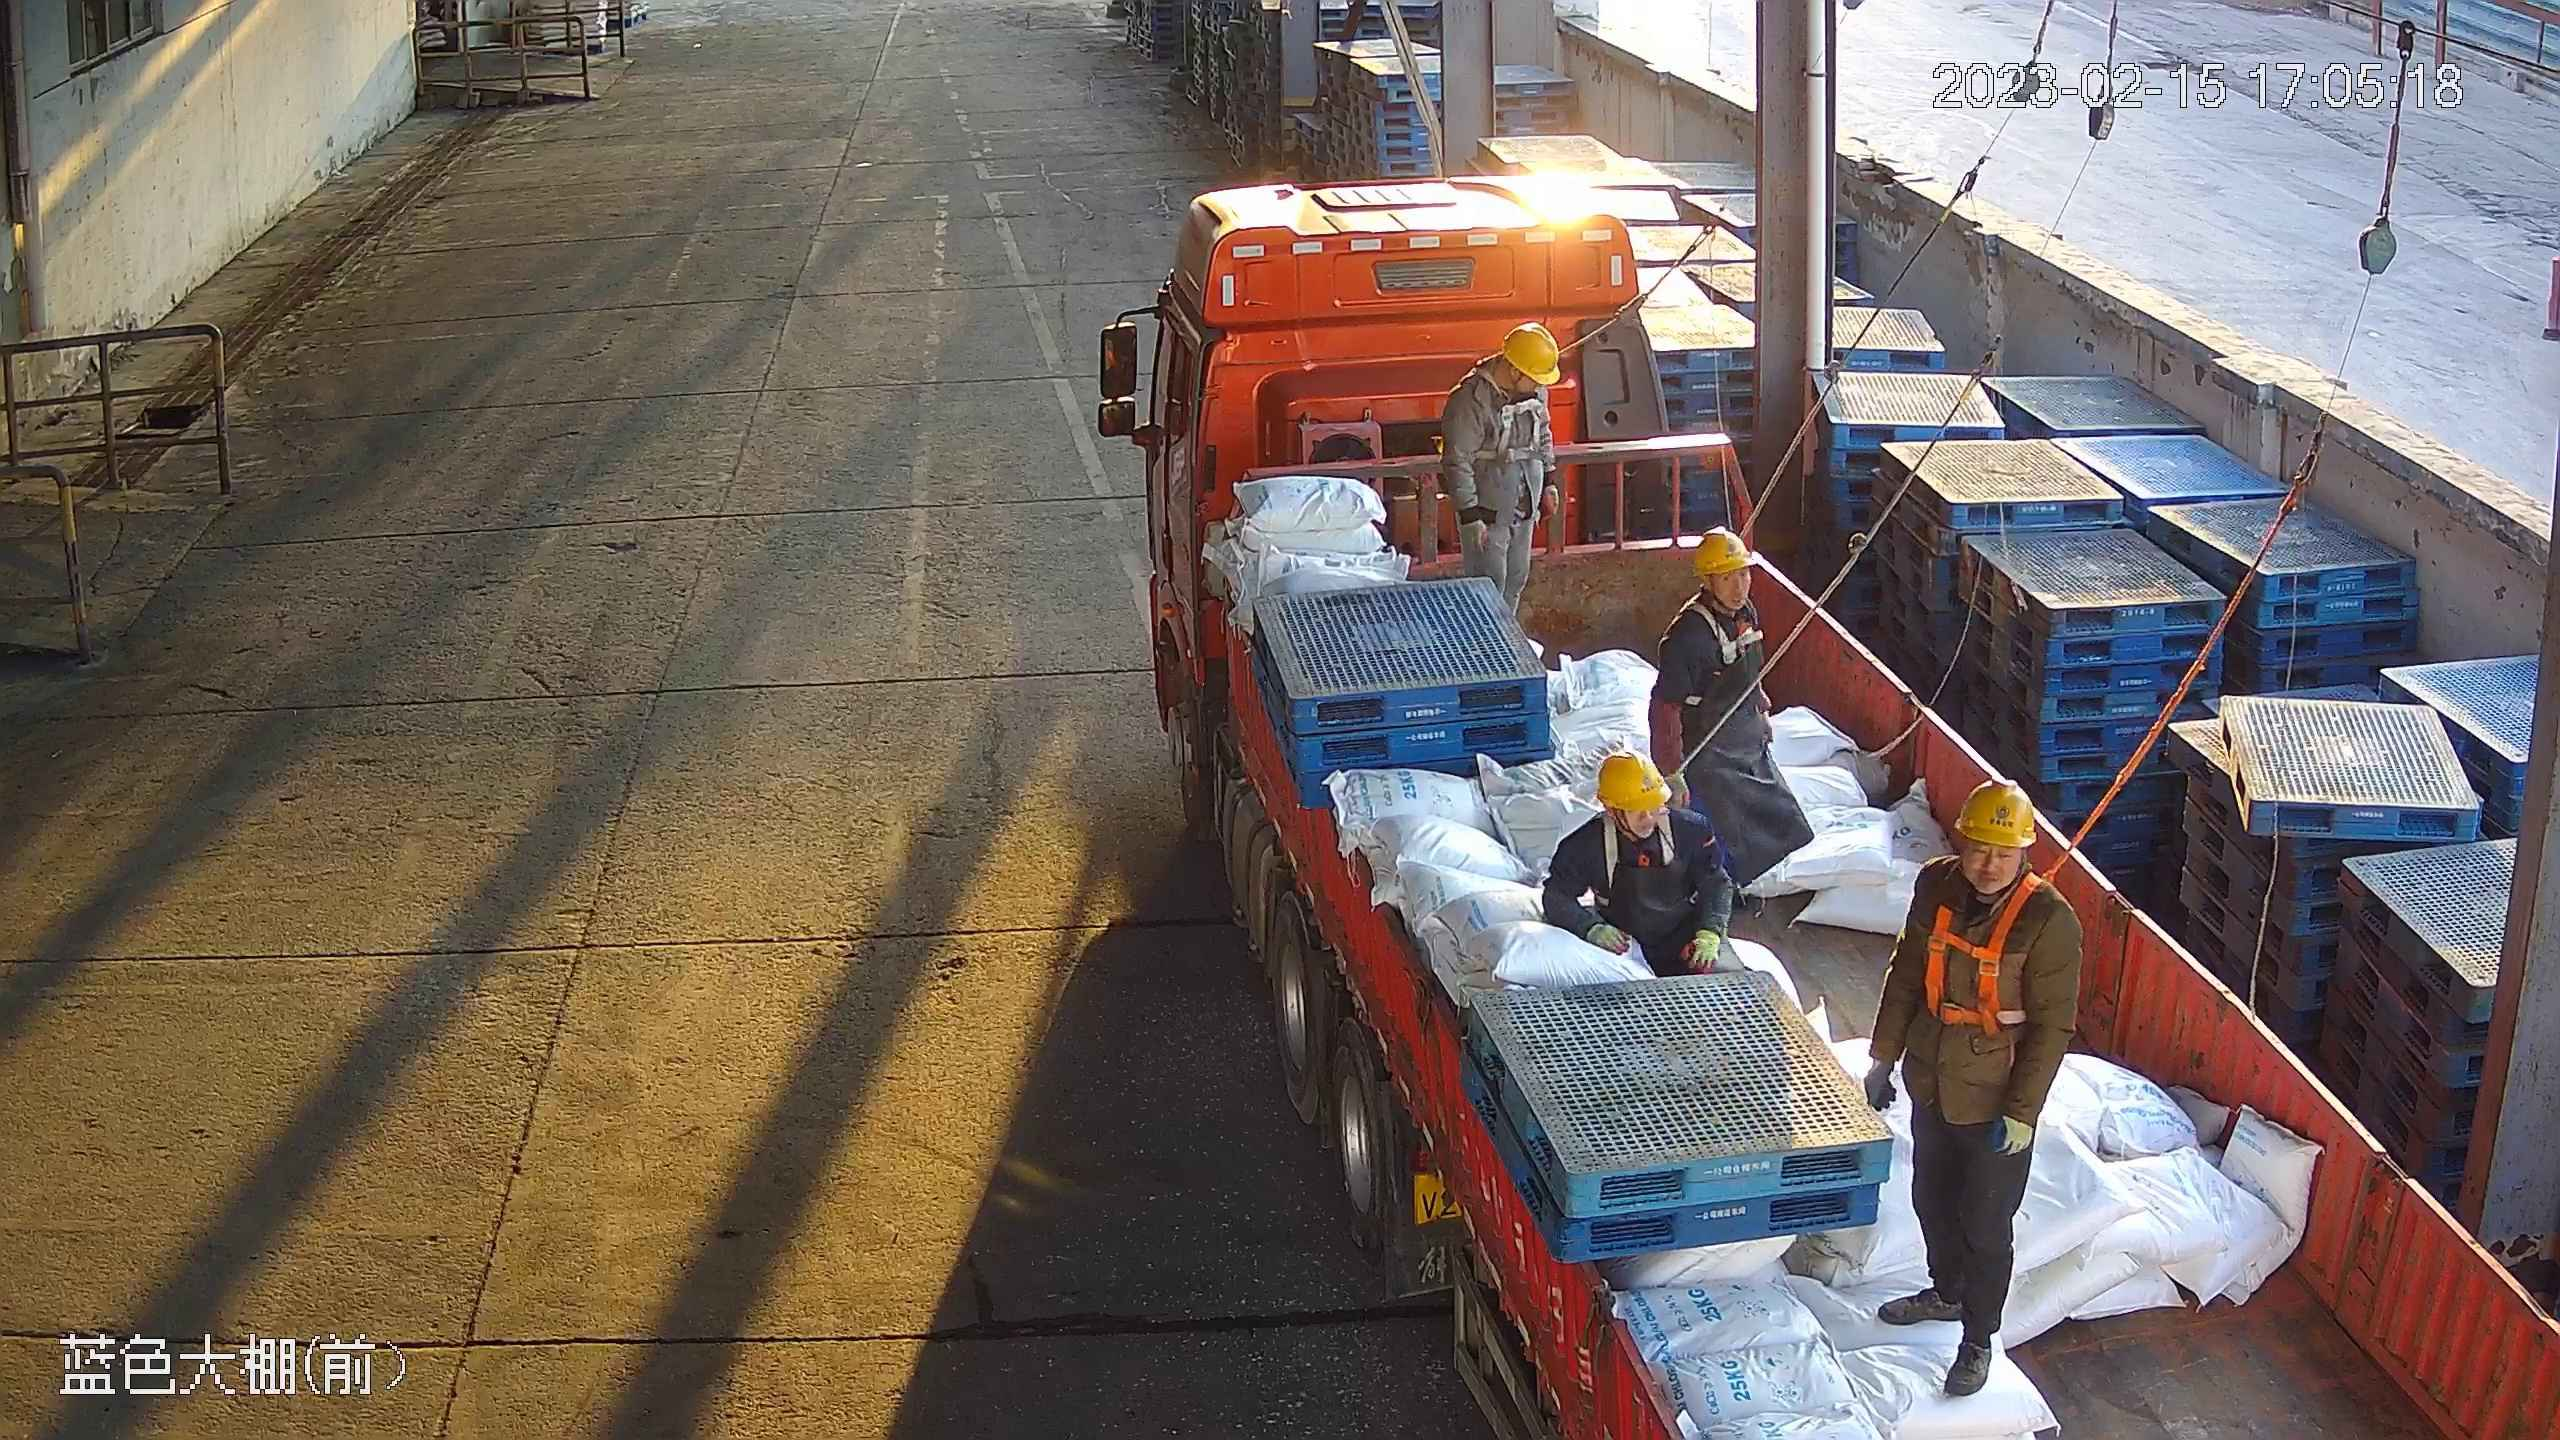belt: (1909, 878, 2061, 1034), (1463, 371, 1553, 457), (1679, 602, 1776, 672), (1596, 815, 1689, 875)
head: (1883, 778, 2083, 1002), (1544, 752, 1725, 901), (1655, 520, 1774, 679), (1453, 322, 1563, 438)
helmet: (1954, 781, 2037, 850), (1597, 755, 1673, 812), (1497, 321, 1558, 384), (1690, 526, 1758, 578)
people: (1862, 779, 2085, 1402), (1645, 524, 1817, 895), (1539, 752, 1737, 979), (1439, 326, 1562, 616)
truck: (1088, 166, 2560, 1440)
